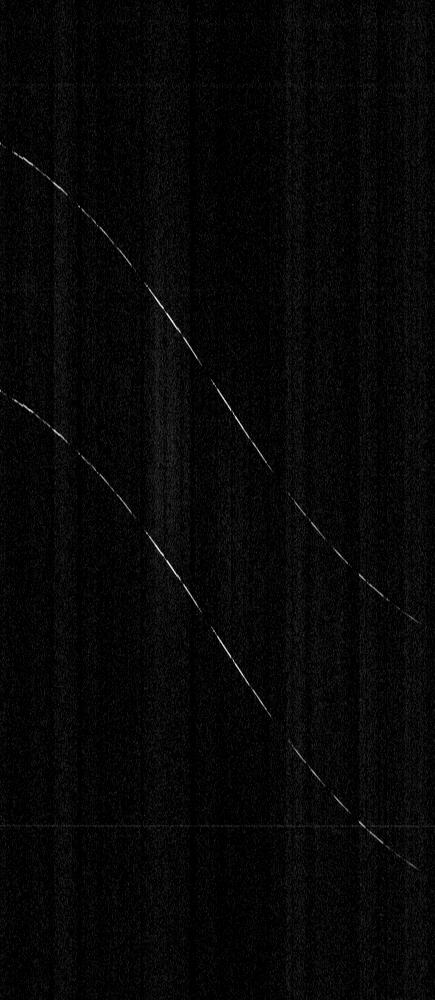signal: (0, 0, 434, 999)
